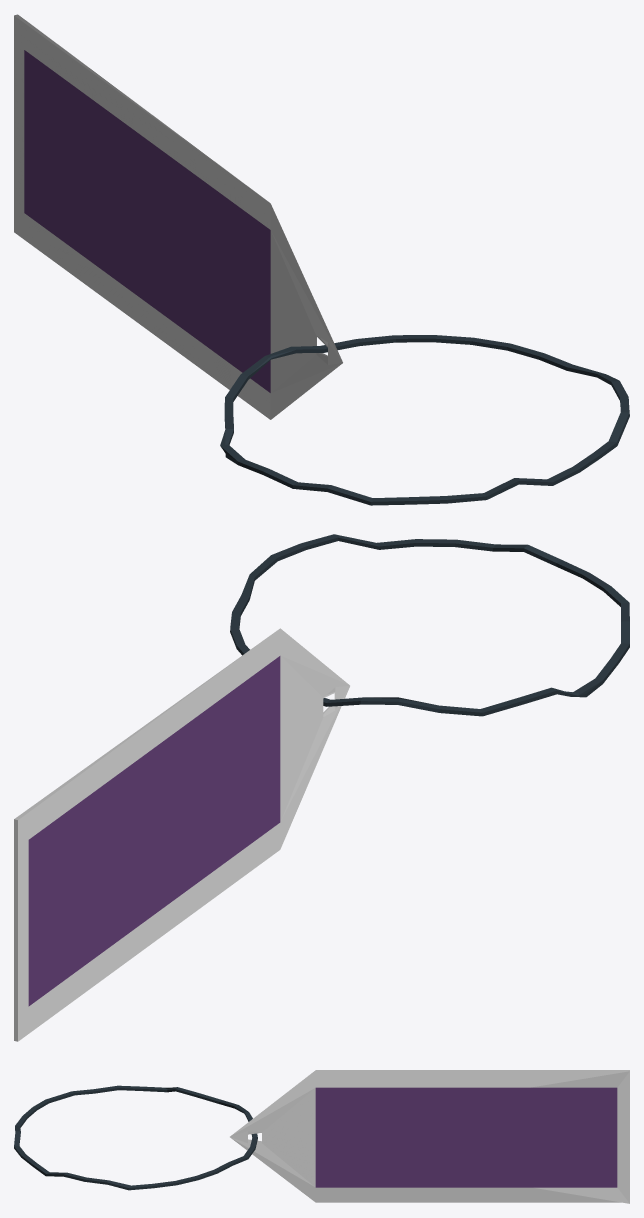
Rendered from PurplePointTag.fbx.
3 renders of one model, top to bottom at view 1: azimuth 30°, elevation 25°; view 2: azimuth 150°, elevation 25°; view 3: azimuth 270°, elevation 25°, orthographic. The views are drawn at different scales.
Visible parts, largest first — view 1: RectanglePointTag.001; view 2: RectanglePointTag.001; view 3: RectanglePointTag.001.
Part boxes in pixels (bbox=[...]): RectanglePointTag.001: bbox=[14, 14, 629, 505]; RectanglePointTag.001: bbox=[14, 534, 629, 1041]; RectanglePointTag.001: bbox=[14, 1070, 629, 1203].
Bounding box in the file's own units: 55 × 31.91 × 134.
